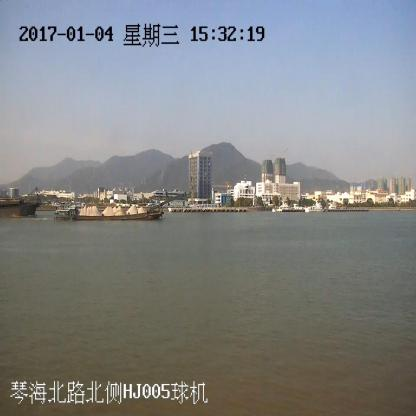Bulk Carrier: (0, 190, 41, 216)
